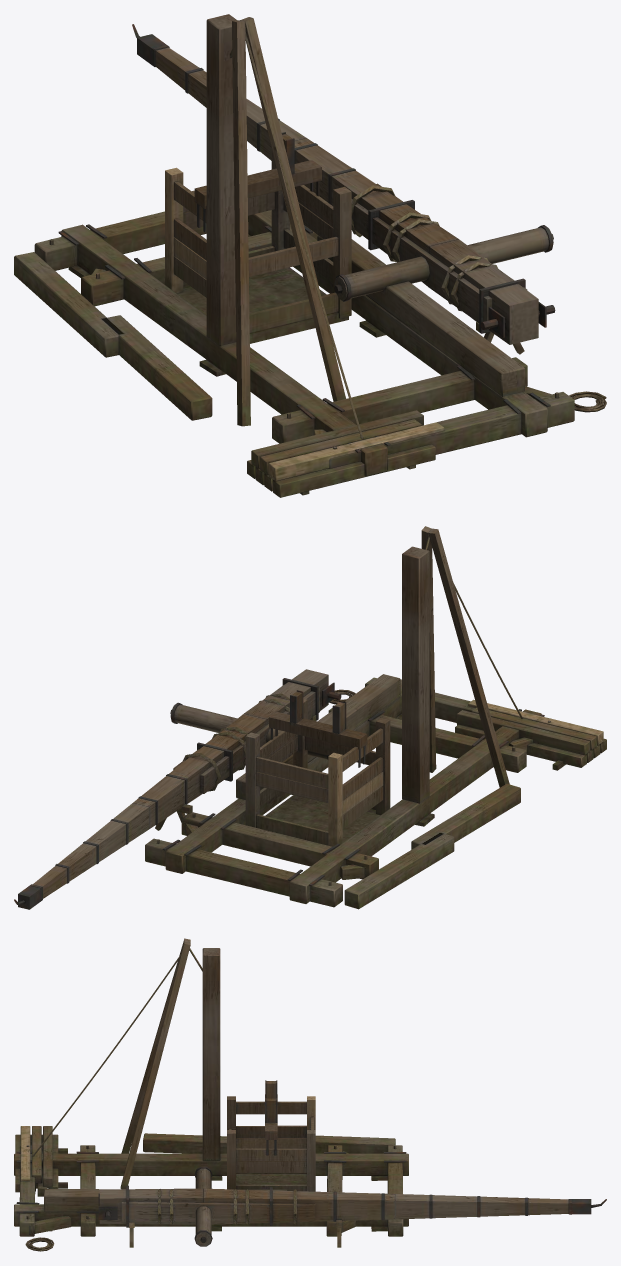
The model's file is trebuchet_assembling_1.glb.
3 renders of one model, top to bottom at view 1: azimuth 30°, elevation 25°; view 2: azimuth 150°, elevation 25°; view 3: azimuth 270°, elevation 25°, orthographic. The views are drawn at different scales.
Parts seen in each view (by area): view 1: body_LOD0; view 2: body_LOD0; view 3: body_LOD0.
Boxes of the visible parts, box(x1,y1,x2,y2) form: body_LOD0: box(14, 14, 606, 497); body_LOD0: box(14, 526, 606, 909); body_LOD0: box(14, 938, 606, 1251).
Size of what is drawn, in the model's own units: 7.82 by 6.49 by 14.86.
Materials: 1 (1 with a texture image).
